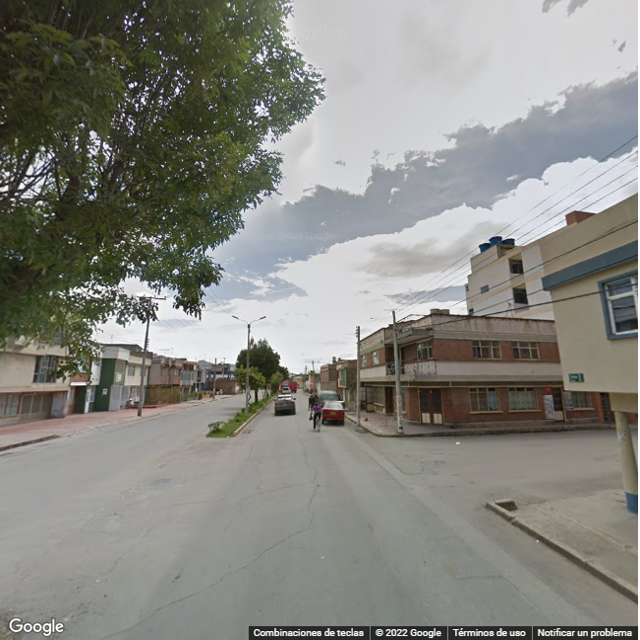D00: (312, 478, 320, 520)
D10: (103, 520, 320, 638)
